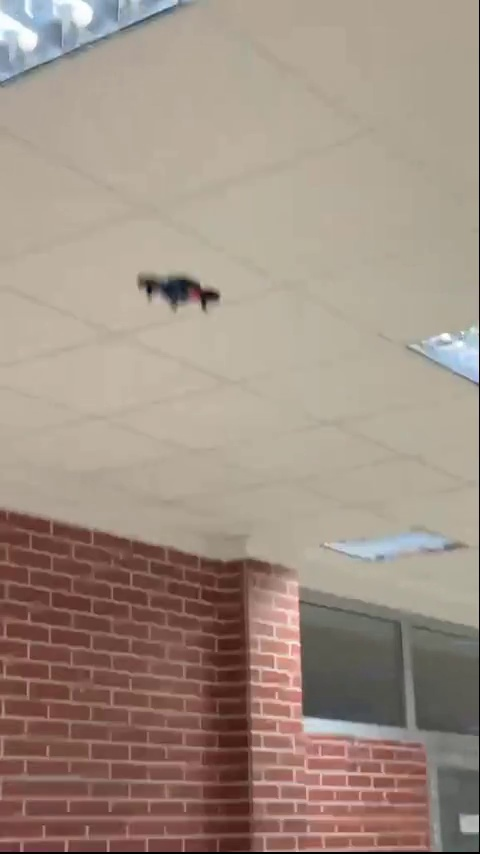drone: (134, 269, 219, 312)
